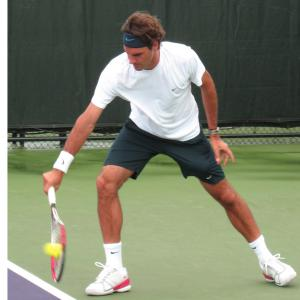TennisBall: (52, 244, 63, 259)
